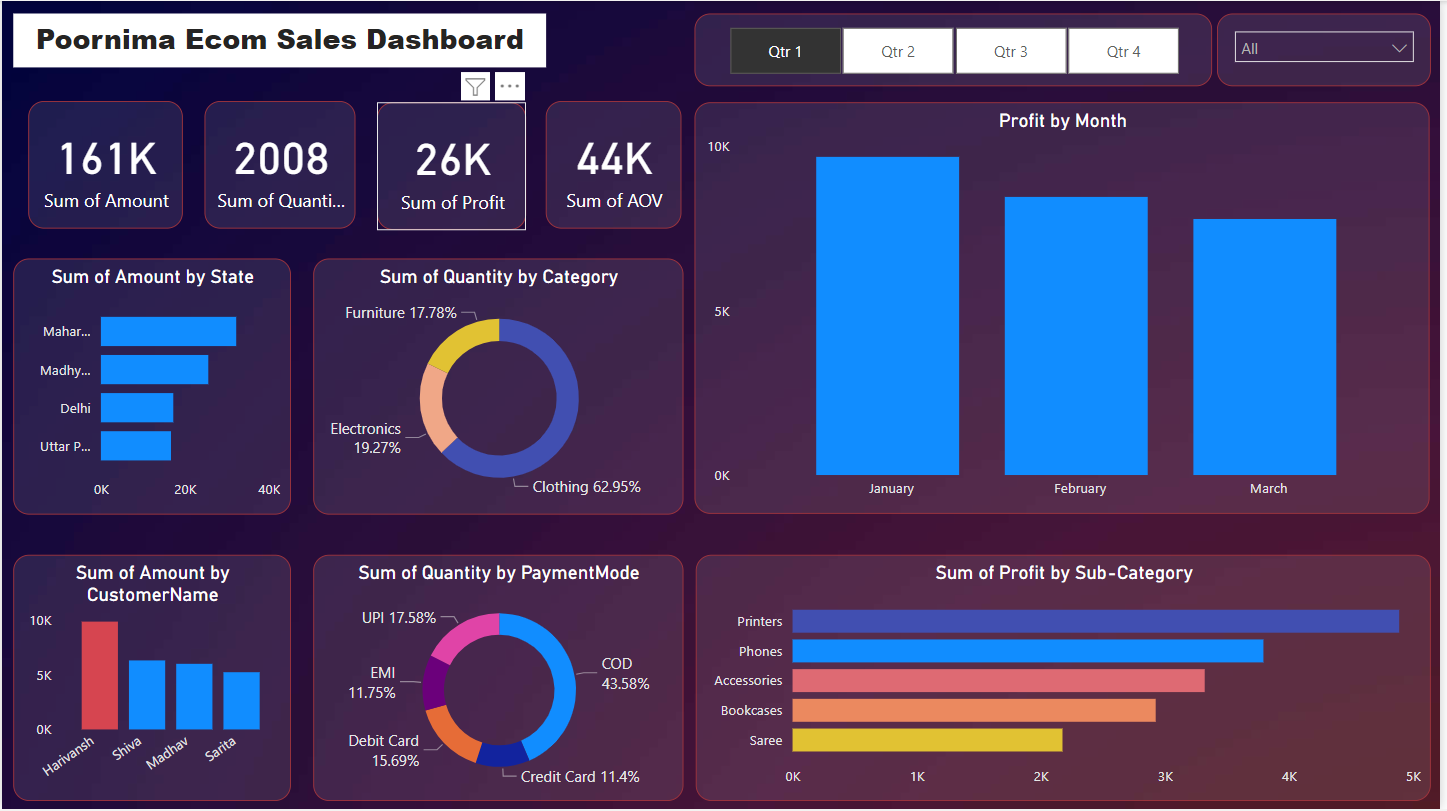

This screenshot's page, from the dashboard's own definition file:
{"tool":"powerbi","page":{"name":"ECOM","canvas":[1280,720],"ordinal":0},"visuals":[{"type":"textbox","box":[9.6,11,474.8,48],"z":0},{"type":"columnChart","title":"Profit by Month","fields":{"Category":["Orders.Order Date.Variation.Date Hierarchy.Month"],"Y":["Details.Profit"]},"box":[616.1,90.6,654.5,366.4],"z":1000},{"type":"barChart","fields":{"Category":["Details.Sub-Category"],"Y":["Details.Profit"]},"box":[617.5,492.6,654.5,219.6],"z":2000},{"type":"donutChart","fields":{"Category":["Details.Category"],"Y":["Details.Quantity"]},"box":[277.2,229.2,329.3,227.8],"z":3000},{"type":"donutChart","fields":{"Y":["Details.Quantity"],"Series":["Details.PaymentMode"]},"box":[277.2,492.6,329.3,219.6],"z":4000},{"type":"card","fields":{"Values":["Details.Amount"]},"box":[23.3,89.2,137.2,113.9],"z":5000},{"type":"card","fields":{"Values":["Details.Quantity"]},"box":[179.8,89.2,134.5,113.9],"z":6000},{"type":"card","fields":{"Values":["Details.Profit"]},"box":[333.4,90.6,133.1,113.9],"z":7000},{"type":"card","fields":{"Values":["Details.AOV"]},"box":[484.4,89.2,120.8,113.9],"z":8000},{"type":"barChart","fields":{"Y":["Details.Amount"],"Category":["Orders.State"]},"box":[9.6,229.2,247,227.8],"z":9000},{"type":"columnChart","fields":{"Y":["Details.Amount"],"Category":["Orders.CustomerName"]},"box":[9.6,492.6,247,219.6],"z":10000},{"type":"slicer","fields":{"Values":["Orders.Order Date.Variation.Date Hierarchy.Quarter"]},"box":[616.1,11,461.1,64.5],"z":11000},{"type":"slicer","fields":{"Values":["Orders.State"]},"box":[1081.3,11,190.7,64.5],"z":12000}]}

Visuals, with their boxes in screenshot pixels (x1, y1, x2, y2), scaled from the page's 1280x720 canvas onto the 1447x811 screenshot:
textbox: 11/12/548/66
"Profit by Month" columnChart: 696/102/1436/515
barChart - Details.Sub-Category x Details.Profit: 698/555/1438/802
donutChart - Details.Category x Details.Quantity: 313/258/686/515
donutChart - Details.Quantity x Details.PaymentMode: 313/555/686/802
card - Details.Amount: 26/100/181/229
card - Details.Quantity: 203/100/355/229
card - Details.Profit: 377/102/527/230
card - Details.AOV: 548/100/684/229
barChart - Details.Amount x Orders.State: 11/258/290/515
columnChart - Details.Amount x Orders.CustomerName: 11/555/290/802
slicer - Orders.Order Date.Variation.Date Hierarchy.Quarter: 696/12/1218/85
slicer - Orders.State: 1222/12/1438/85
